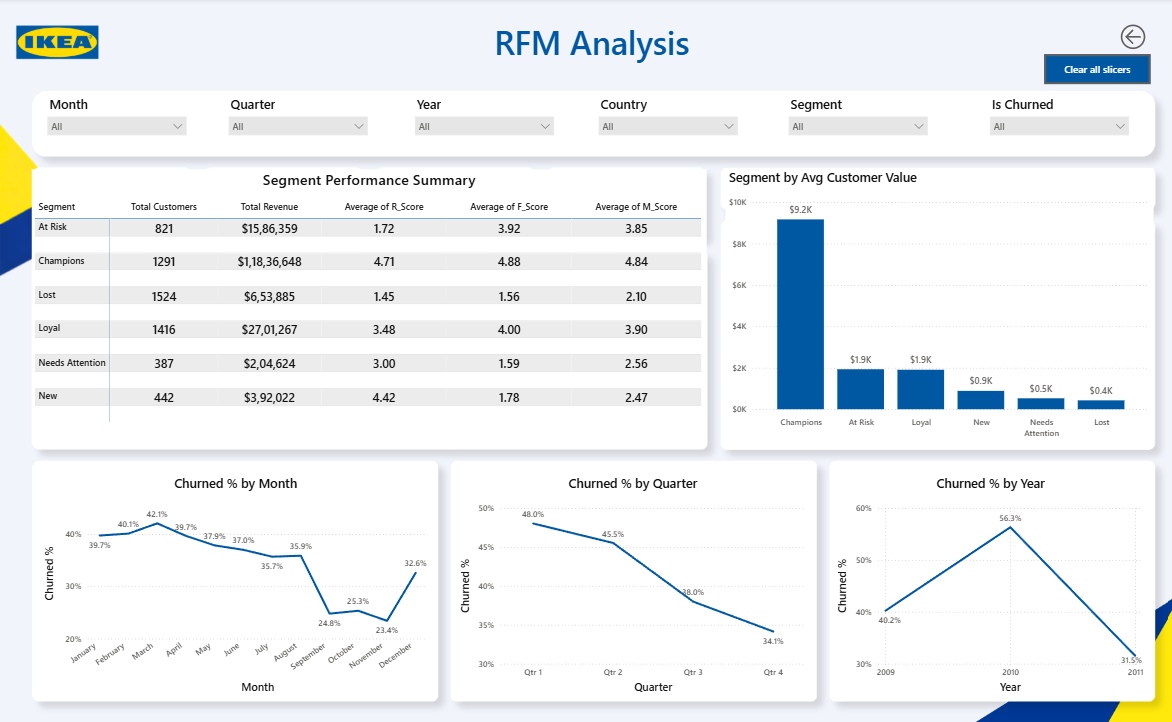

The dashboard page shown, as its layout file describes it:
{"tool":"powerbi","page":{"name":"RFM Analysis","canvas":[1750,1100],"ordinal":1},"visuals":[{"type":"slicer","fields":{"Values":["Sheet1.InvoiceDate.Variation.Date Hierarchy.Month"]},"box":[61.9,138.7,224.9,90],"z":0},{"type":"slicer","fields":{"Values":["Sheet1.InvoiceDate.Variation.Date Hierarchy.Quarter"]},"box":[329.9,138.7,224.9,90],"z":1000},{"type":"columnChart","title":"Segment by Avg Customer Value","fields":{"Category":["Sheet1.Segment"],"Y":["Sheet1.Avg Customer Value"]},"box":[1071.4,250.4,631,406.7],"z":1000,"group":"g1"},{"type":"slicer","fields":{"Values":["Sheet1.Segment"]},"box":[1156.6,138.7,224.9,90],"z":2000},{"type":"lineChart","title":"Churned % by Month","fields":{"Category":["Sheet1.InvoiceMonth.Variation.Date Hierarchy.Month"],"Y":["Sheet1.Churned %"]},"box":[61.9,701.1,575.5,328],"z":2000,"group":"g1"},{"type":"slicer","fields":{"Values":["Sheet1.IsChurned"]},"box":[1452.7,138.7,224.9,90],"z":3000},{"type":"lineChart","title":"Churned % by Quarter","fields":{"Category":["Sheet1.InvoiceMonth.Variation.Date Hierarchy.Quarter"],"Y":["Sheet1.Churned %"]},"box":[674.9,701.1,519.2,328],"z":3000,"group":"g1"},{"type":"slicer","fields":{"Values":["Sheet1.InvoiceDate.Variation.Date Hierarchy.Year"]},"box":[605.5,138.7,224.9,90],"z":4000},{"type":"lineChart","title":"Churned % by Year","fields":{"Category":["Sheet1.InvoiceMonth.Variation.Date Hierarchy.Year"],"Y":["Sheet1.Churned %"]},"box":[1231.6,701.1,461.1,328],"z":4000,"group":"g1"},{"type":"slicer","fields":{"Values":["Sheet1.Country"]},"box":[875.4,138.7,224.9,90],"z":5000},{"type":"group","id":"g1","title":"Revenue","box":[61.9,250.4,1640.4,778.7],"z":7000},{"type":"image","box":[0,12.9,175.1,105.1],"z":9000},{"type":"textbox","box":[588,27.6,575.1,77.4],"z":10000},{"type":"actionButton","box":[1649.6,27.6,99.5,59],"z":11000},{"type":"actionButton","box":[1542.7,82.9,156.7,44.2],"z":12000},{"type":"pivotTable","title":"Segment Performance Summary","fields":{"Rows":["Sheet1.Segment"],"Values":["Sheet1.Total Customers","Sheet1.Total Revenue","Avg(Sheet1.R_Score)","Avg(Sheet1.F_Score)","Avg(Sheet1.M_Score)"]},"box":[49.8,252.5,995.3,405.5],"z":13000}]}

Visuals, with their boxes in screenshot pixels (x1, y1, x2, y2), scaled from the page's 1750x1100 canvas onto the 1172x722 screenshot:
slicer - Sheet1.InvoiceDate.Variation.Date Hierarchy.Month: (41, 91, 192, 150)
slicer - Sheet1.InvoiceDate.Variation.Date Hierarchy.Quarter: (221, 91, 372, 150)
"Segment by Avg Customer Value" columnChart: (718, 164, 1140, 431)
slicer - Sheet1.Segment: (775, 91, 925, 150)
"Churned % by Month" lineChart: (41, 460, 427, 675)
slicer - Sheet1.IsChurned: (973, 91, 1124, 150)
"Churned % by Quarter" lineChart: (452, 460, 800, 675)
slicer - Sheet1.InvoiceDate.Variation.Date Hierarchy.Year: (406, 91, 556, 150)
"Churned % by Year" lineChart: (825, 460, 1134, 675)
slicer - Sheet1.Country: (586, 91, 737, 150)
"Revenue" group: (41, 164, 1140, 675)
image: (0, 8, 117, 77)
textbox: (394, 18, 779, 69)
actionButton: (1105, 18, 1171, 57)
actionButton: (1033, 54, 1138, 83)
"Segment Performance Summary" pivotTable: (33, 166, 700, 432)
